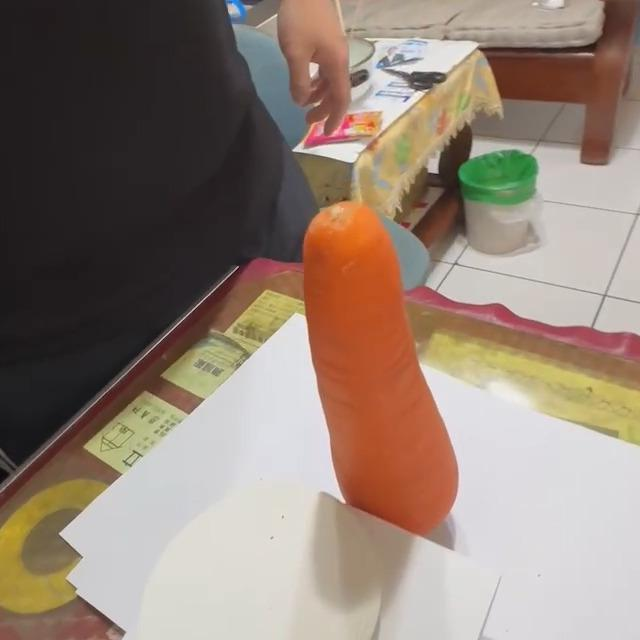carrot: (301, 202, 461, 539)
